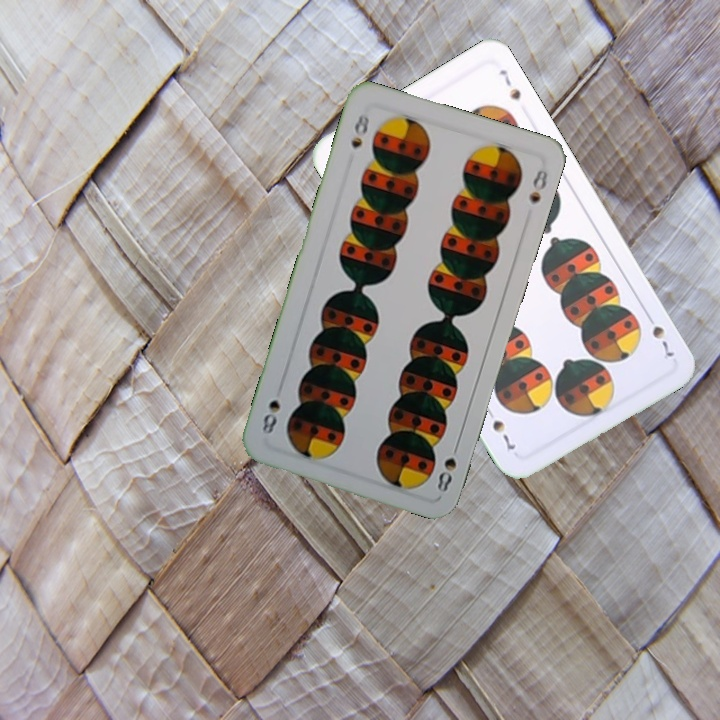S7: (642, 308, 678, 360)
S8: (433, 438, 462, 495), (347, 110, 372, 151)
